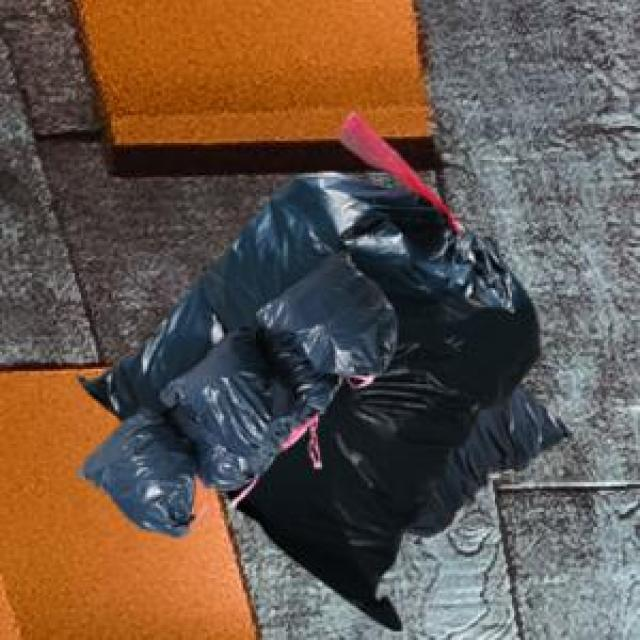waste: (82, 176, 569, 629)
